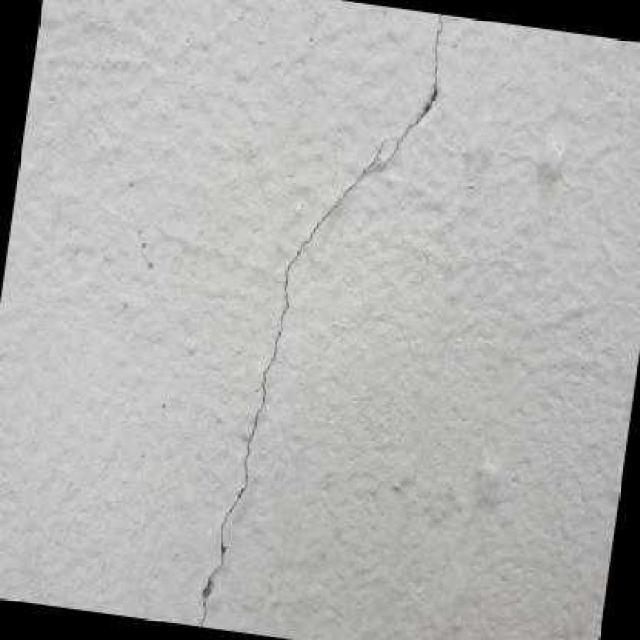D00: (197, 135, 388, 627), (384, 14, 444, 168)
